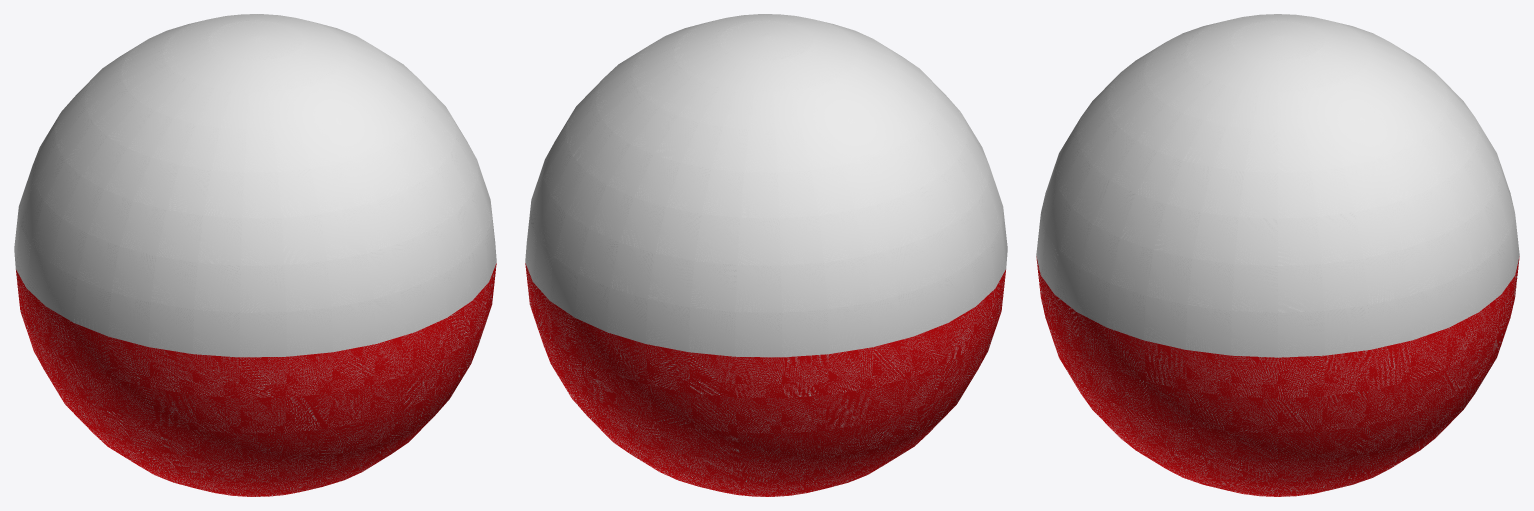
Rendered from gachaball.fbx.
3 views of the same model, side by side, from view 1: azimuth 30°, elevation 25°; view 2: azimuth 150°, elevation 25°; view 3: azimuth 270°, elevation 25° (orthographic).
Parts seen in each view (by area): view 1: SphereFill, InvSphere; view 2: SphereFill, InvSphere; view 3: SphereFill, InvSphere.
Part boxes in pixels (x1,y1,x2,y2): SphereFill: [14, 14, 496, 496]; InvSphere: [14, 14, 496, 496]; SphereFill: [525, 14, 1007, 496]; InvSphere: [526, 14, 1007, 496]; SphereFill: [1036, 14, 1519, 496]; InvSphere: [1036, 14, 1519, 496].
Size of the model in its own units: 200 by 200 by 200.
